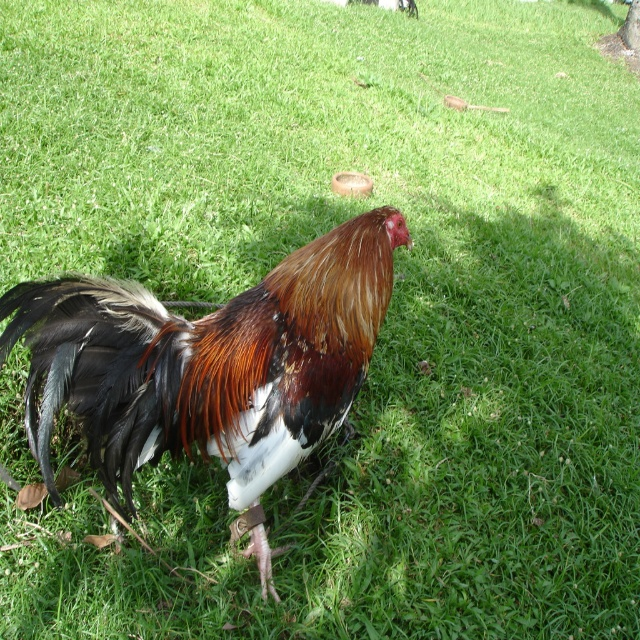Chicken: (0, 205, 413, 607)
